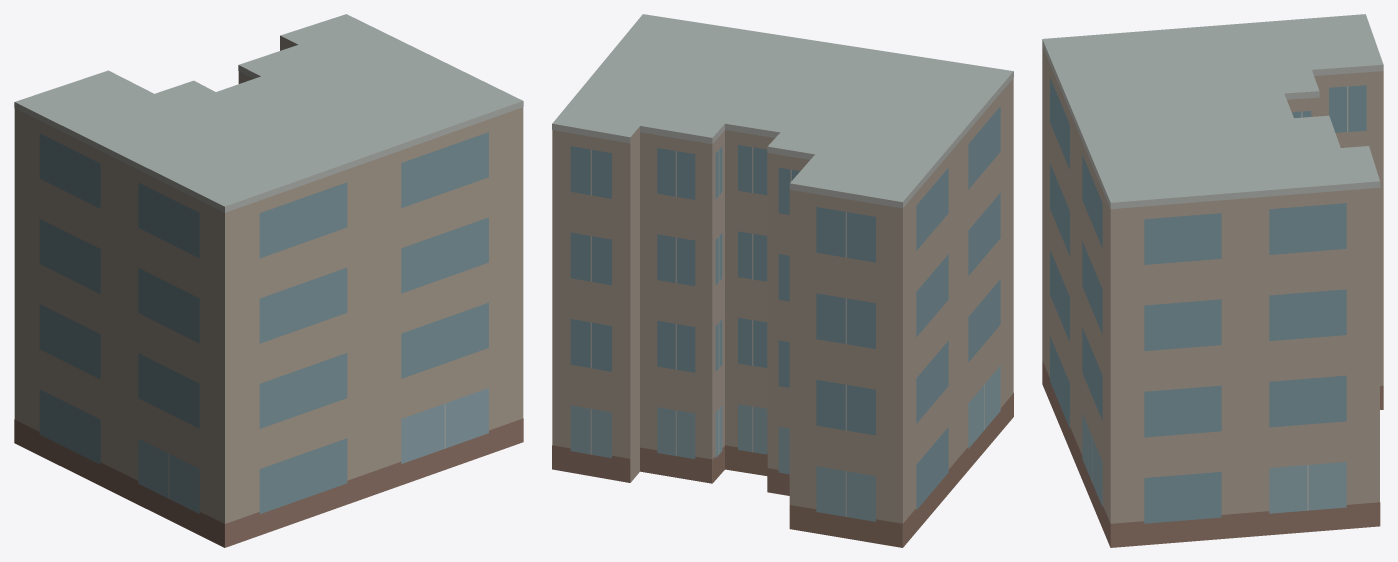
Rendered from survey-upis-32523907.glb.
The picture shows the model from 3 angles, left to right: view 1: azimuth 30°, elevation 25°; view 2: azimuth 150°, elevation 25°; view 3: azimuth 270°, elevation 25°; orthographic projection.
Parts seen in each view (by area): view 1: survey-upis-32523907.tmp; view 2: survey-upis-32523907.tmp; view 3: survey-upis-32523907.tmp.
Boxes of the visible parts, x1,y1,x2,y2 form: survey-upis-32523907.tmp: [14, 14, 523, 547]; survey-upis-32523907.tmp: [552, 14, 1013, 547]; survey-upis-32523907.tmp: [1042, 14, 1383, 547].
Size of the model in its own units: 15.68 by 13.35 by 11.98.
